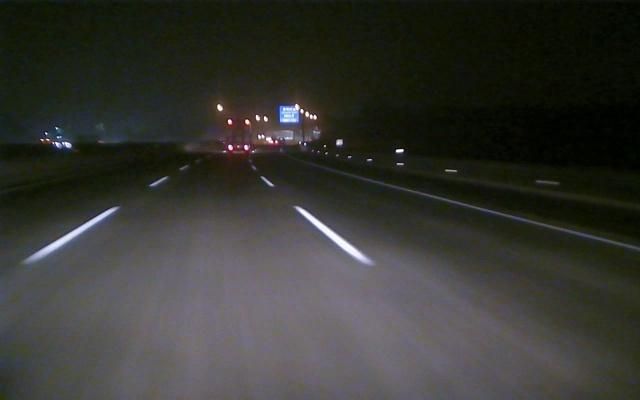lane: (339, 171, 637, 251), (7, 179, 164, 269), (260, 178, 376, 265)
